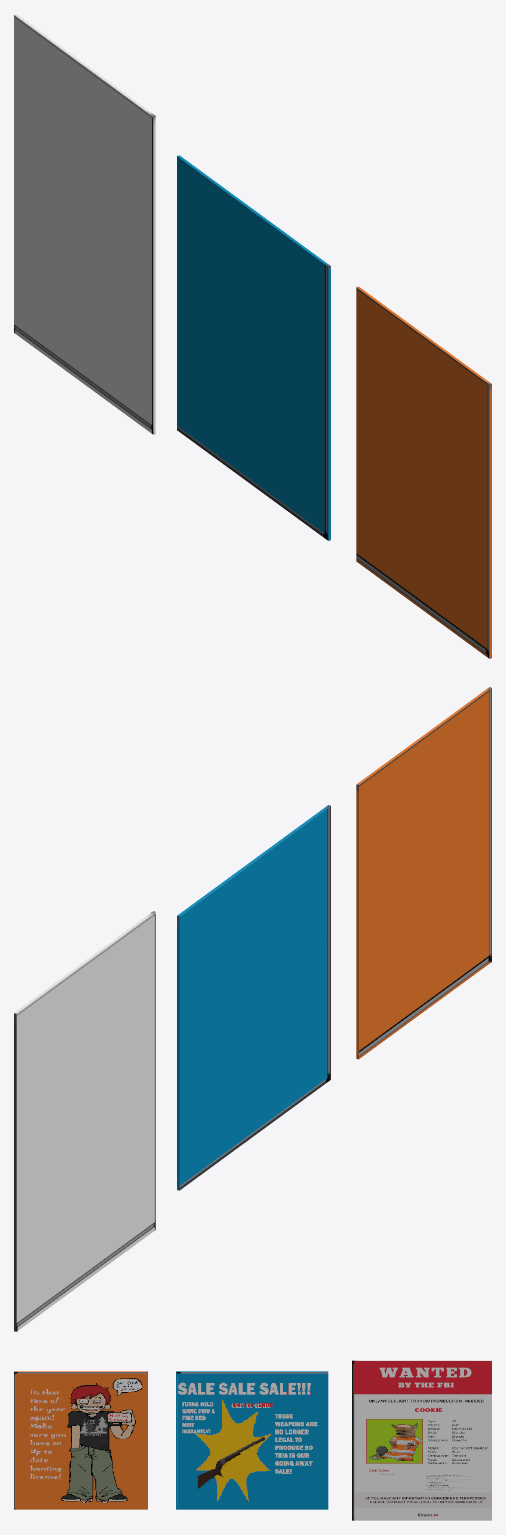
File: posters.fbx
3 views of the same model, one above another, from view 1: azimuth 30°, elevation 25°; view 2: azimuth 150°, elevation 25°; view 3: azimuth 270°, elevation 25° (orthographic). The views are drawn at different scales.
Visible parts, largest first — view 1: Cube.002, Cube.001, Cube; view 2: Cube.002, Cube.001, Cube; view 3: Cube.002, Cube.001, Cube.
Boxes of the visible parts, left/top/right/bottom form: Cube.002: left=14, top=14, right=155, bottom=434; Cube.001: left=177, top=155, right=330, bottom=540; Cube: left=356, top=286, right=491, bottom=658; Cube.002: left=14, top=911, right=155, bottom=1331; Cube.001: left=177, top=805, right=330, bottom=1190; Cube: left=356, top=687, right=491, bottom=1059; Cube.002: left=352, top=1360, right=491, bottom=1520; Cube.001: left=176, top=1371, right=328, bottom=1509; Cube: left=14, top=1371, right=147, bottom=1509.
Bounding box in the file's own units: 2 × 232 × 628.
